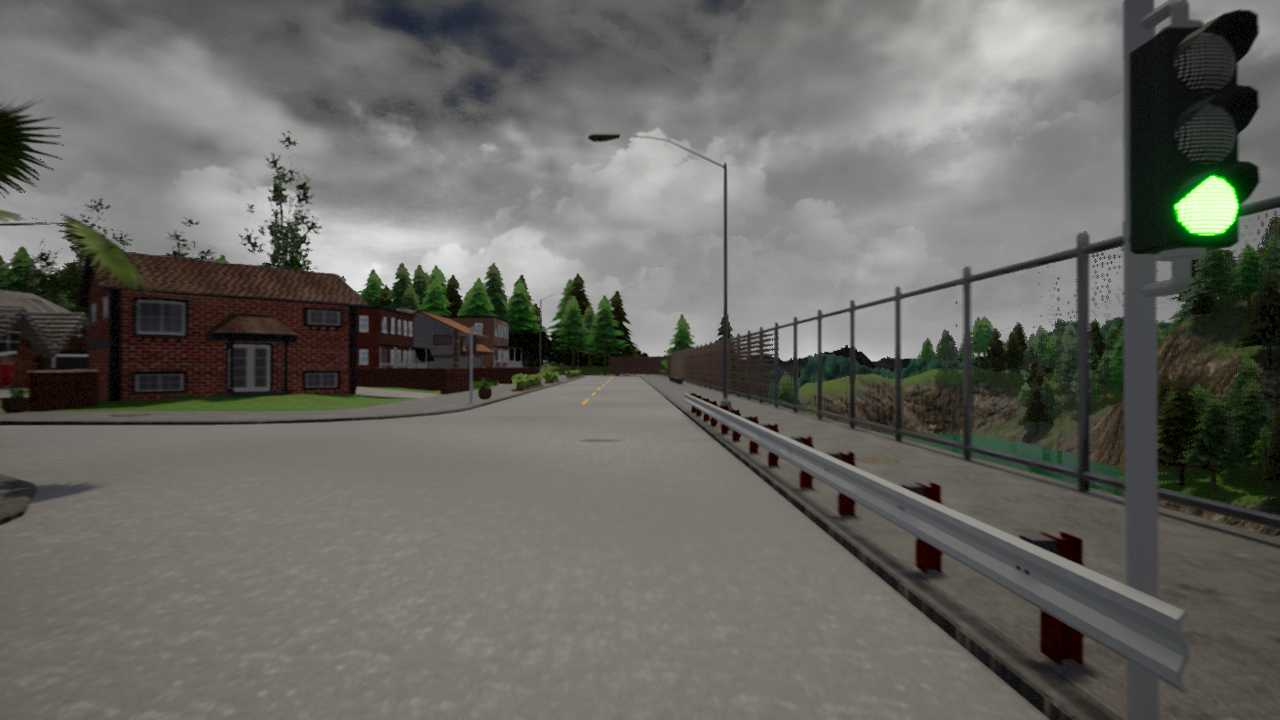green: (1135, 5, 1267, 260)
